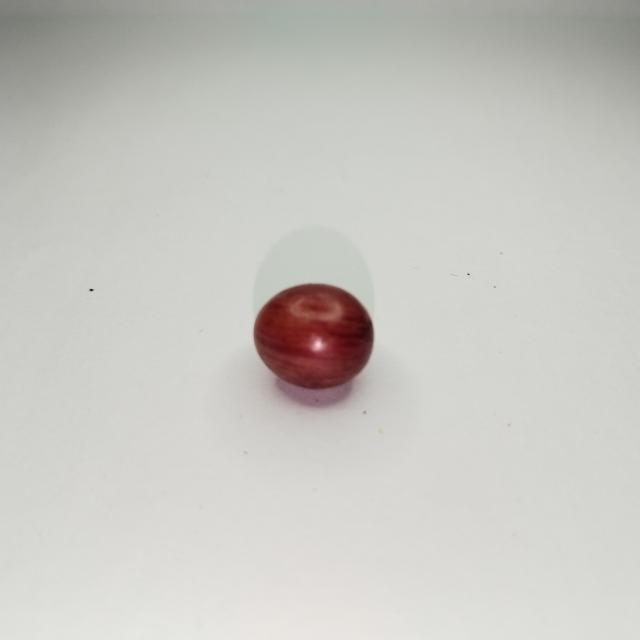Sano: (254, 283, 374, 391)
